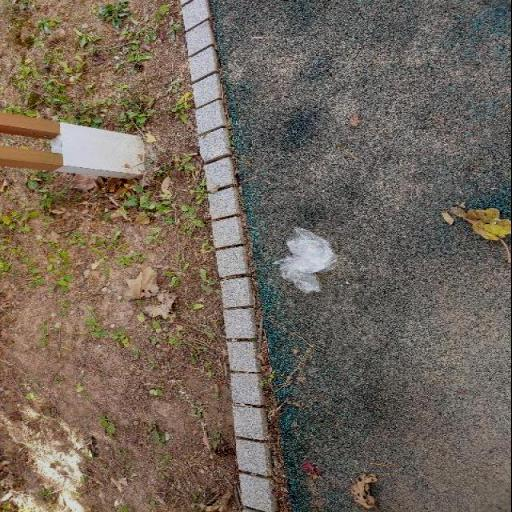polythene: (275, 228, 338, 293)
